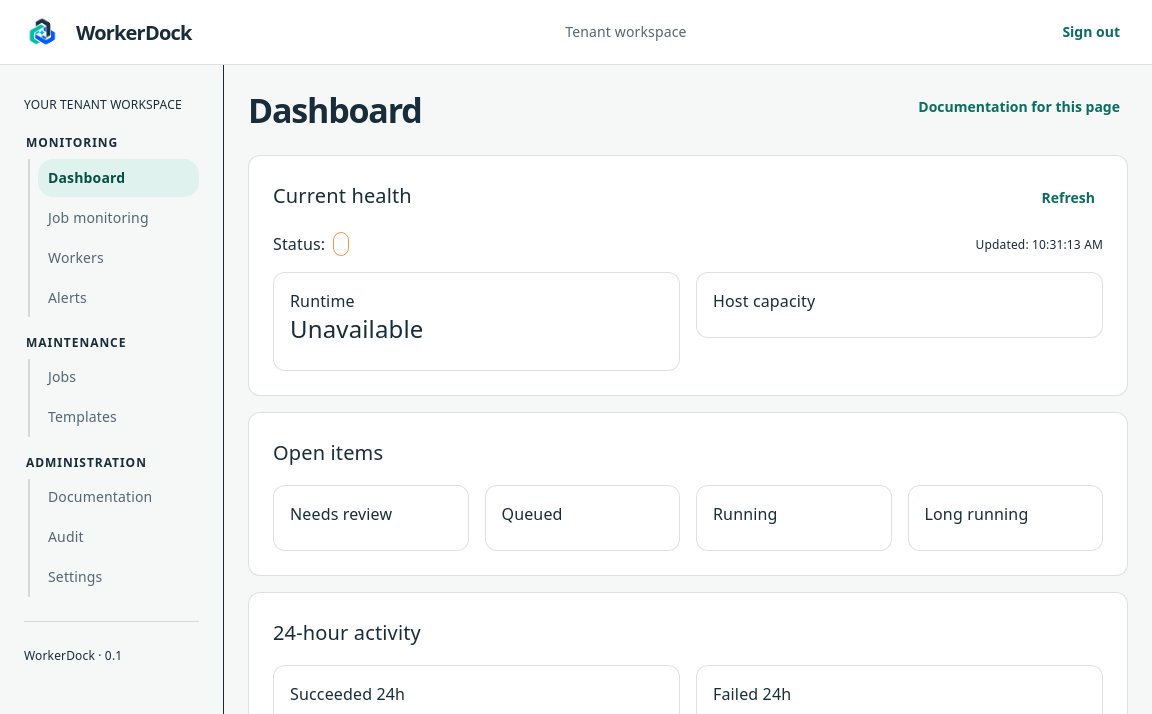
dashboard contextual help opens its registered guide
The image size is (1152, 714).
Step 1. Click the button "Documentation for this page" → (1019, 107), box 910,89 -> 1128,126
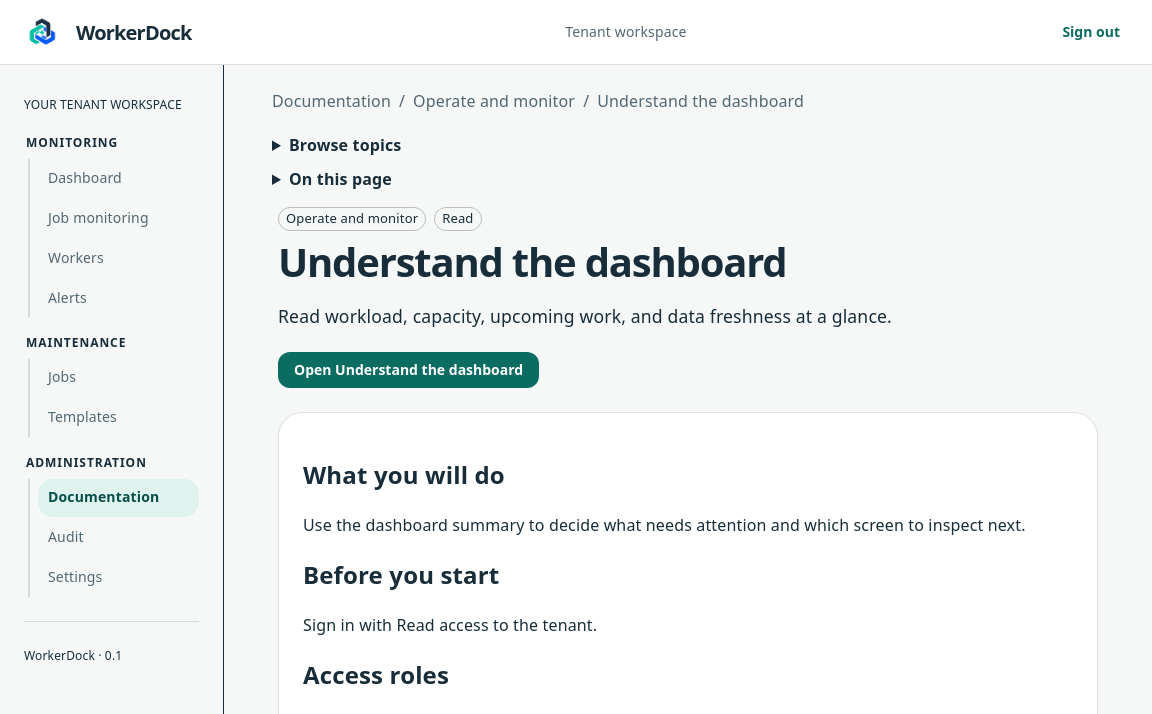
Check: the heading "Understand the dashboard" is shown, box 278,234 -> 786,289
